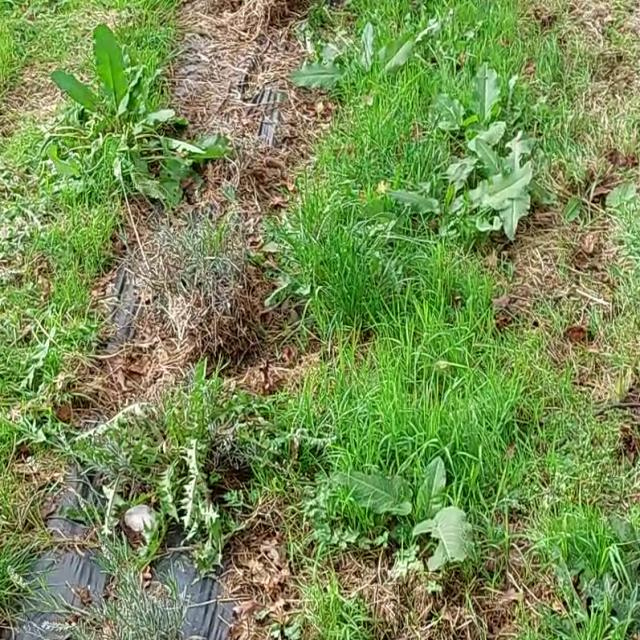organic waste: (31, 25, 256, 222), (320, 450, 524, 606), (276, 0, 456, 128), (382, 56, 537, 182), (418, 130, 576, 252)
